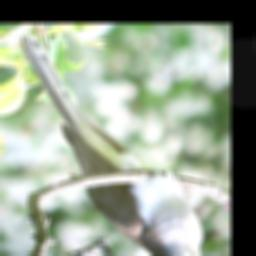Cuckoo: (16, 33, 213, 256)
